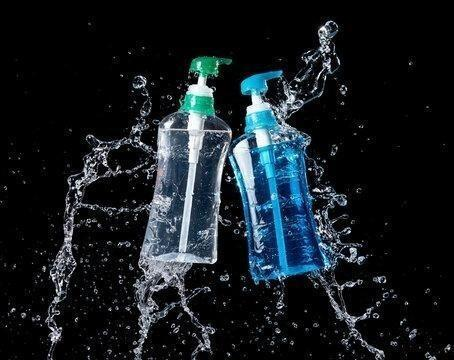bottle-plastic: (229, 102, 327, 284), (140, 86, 234, 268)
